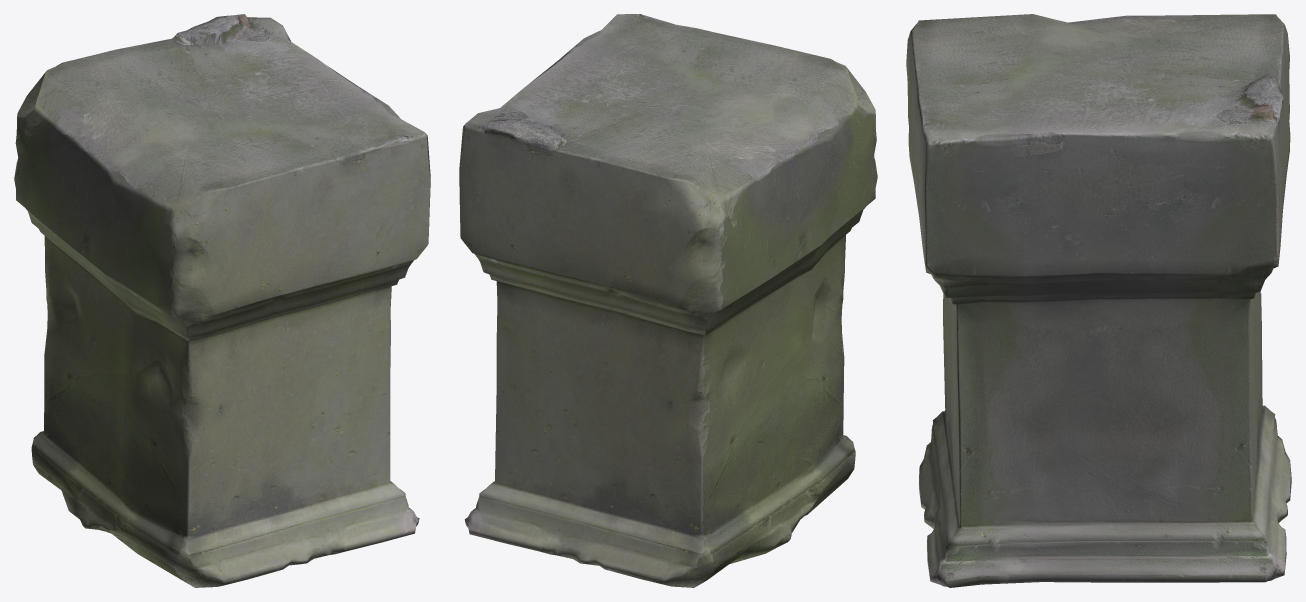
File: SM_Column_02_01.fbx
3 views of the same model, side by side, from view 1: azimuth 30°, elevation 25°; view 2: azimuth 150°, elevation 25°; view 3: azimuth 270°, elevation 25° (orthographic). The views are drawn at different scales.
Visible parts, largest first — view 1: sm_Column_02_01_LOD0; view 2: sm_Column_02_01_LOD0; view 3: sm_Column_02_01_LOD0.
Boxes of the visible parts, box(x1,y1,x2,y2) form: sm_Column_02_01_LOD0: box(14, 14, 430, 587); sm_Column_02_01_LOD0: box(459, 14, 877, 587); sm_Column_02_01_LOD0: box(906, 14, 1291, 587).
Bounding box in the file's own units: 71.98 × 64.42 × 97.47.
